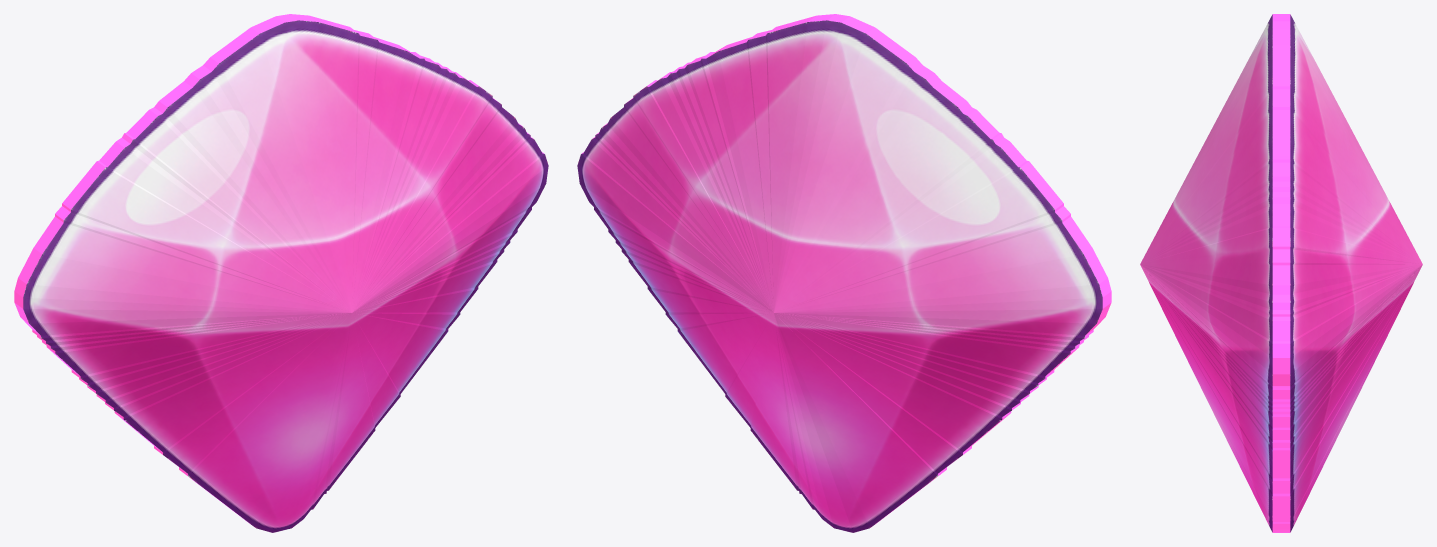
File: icon_gems.glb
3 renders of one model, left to right at view 1: azimuth 30°, elevation 25°; view 2: azimuth 150°, elevation 25°; view 3: azimuth 270°, elevation 25°, orthographic.
Visible parts, largest first — view 1: IconRoot; view 2: IconRoot; view 3: IconRoot.
Part boxes in pixels (x1,y1,x2,y2): IconRoot: (14,14,548,532); IconRoot: (577,14,1111,532); IconRoot: (1140,14,1422,532).
Bounding box in the file's own units: 1.72 × 1.59 × 0.8.
Materials: 2 (1 with a texture image).
